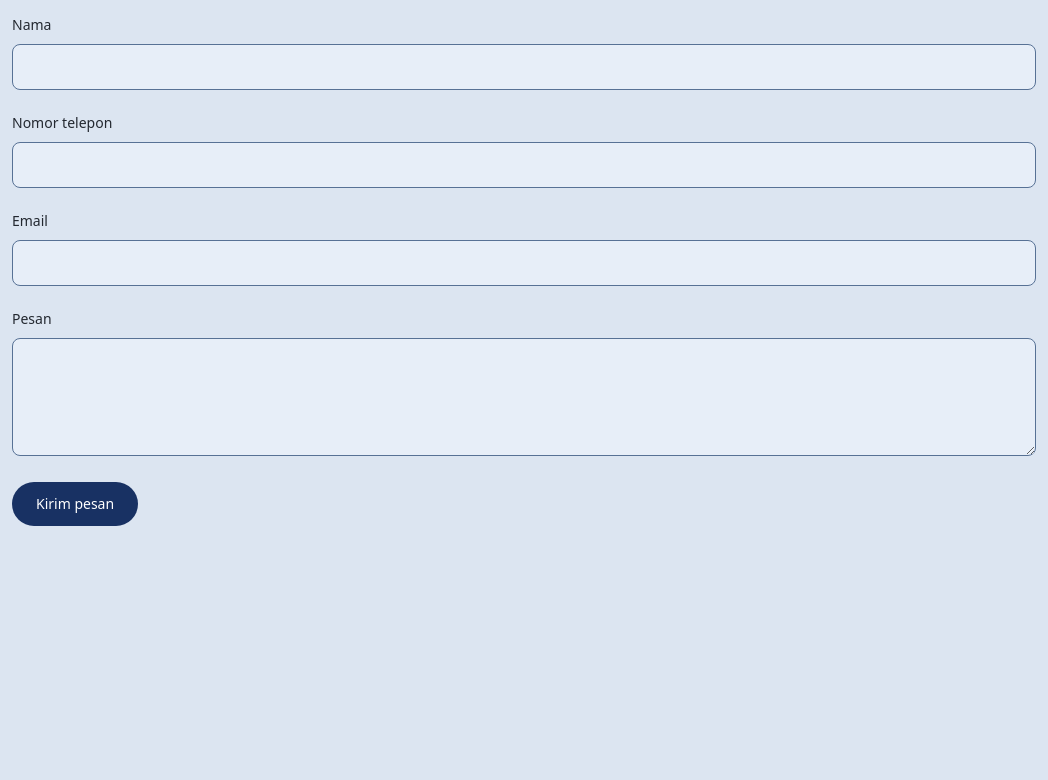
ContactForm saat server action gagal › menampilkan pesan galat ketika action melempar
Type "Budi Santoso" into the field labelled "Nama". click: (524, 67)
box: left=12, top=44, right=1036, bottom=90
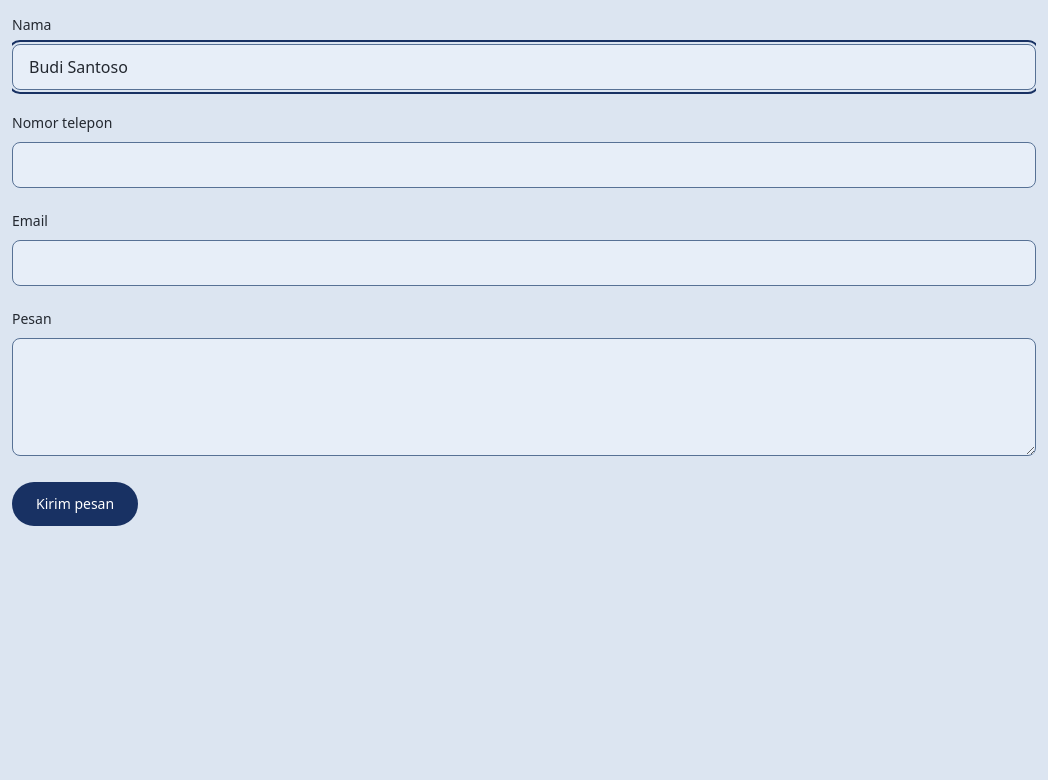
Type "+6281234567890" into the field labelled "Nomor telepon". click: (524, 165)
box: left=12, top=142, right=1036, bottom=188
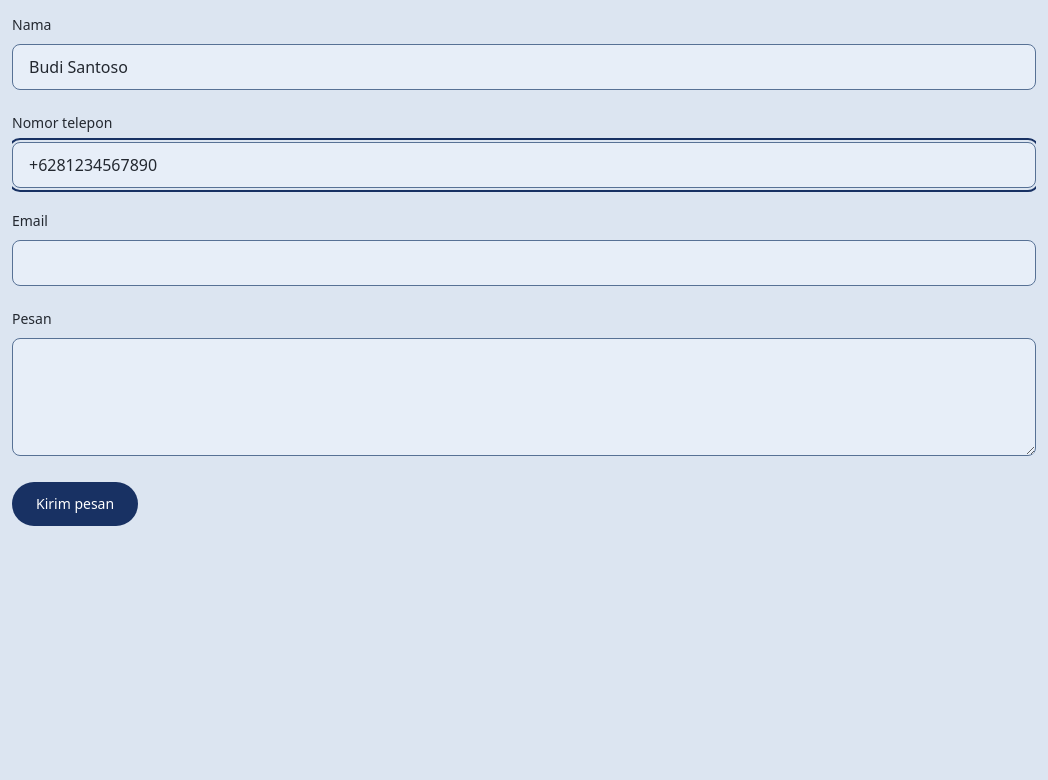
Type "budi@example.com" into the field labelled "Email". click: (524, 263)
box: left=12, top=240, right=1036, bottom=286
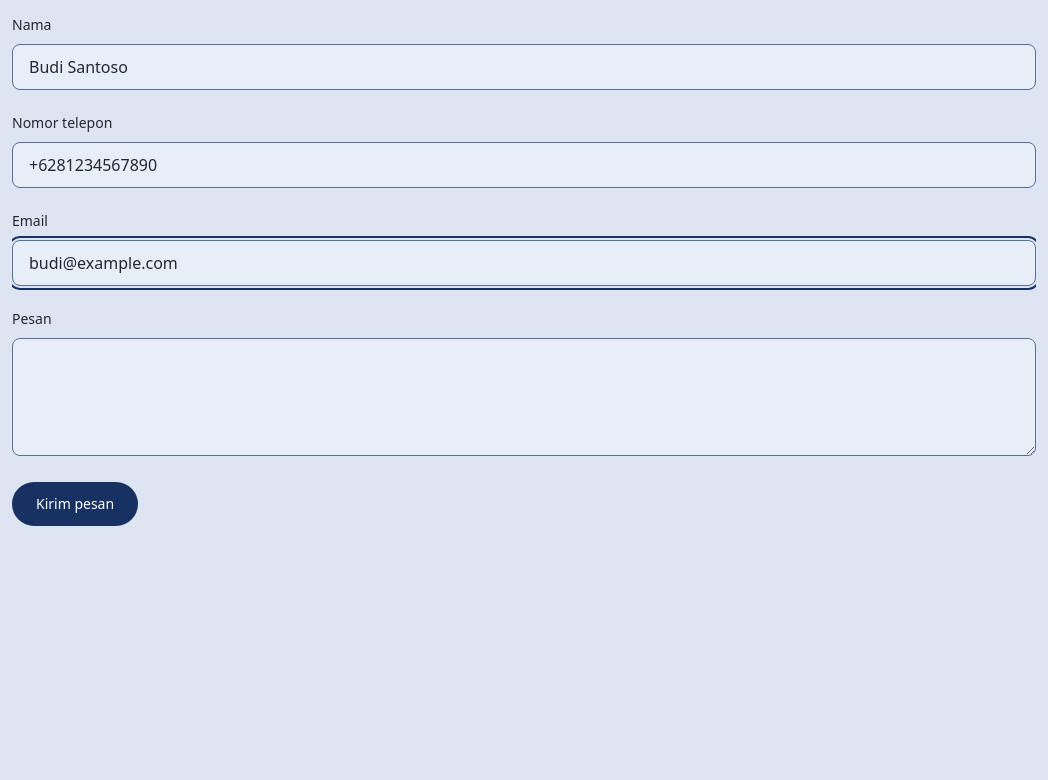
Type "Saya ingin bertanya soal pengangkutan BBM." into the text box labelled "Pesan". click: (524, 397)
box: left=12, top=338, right=1036, bottom=456
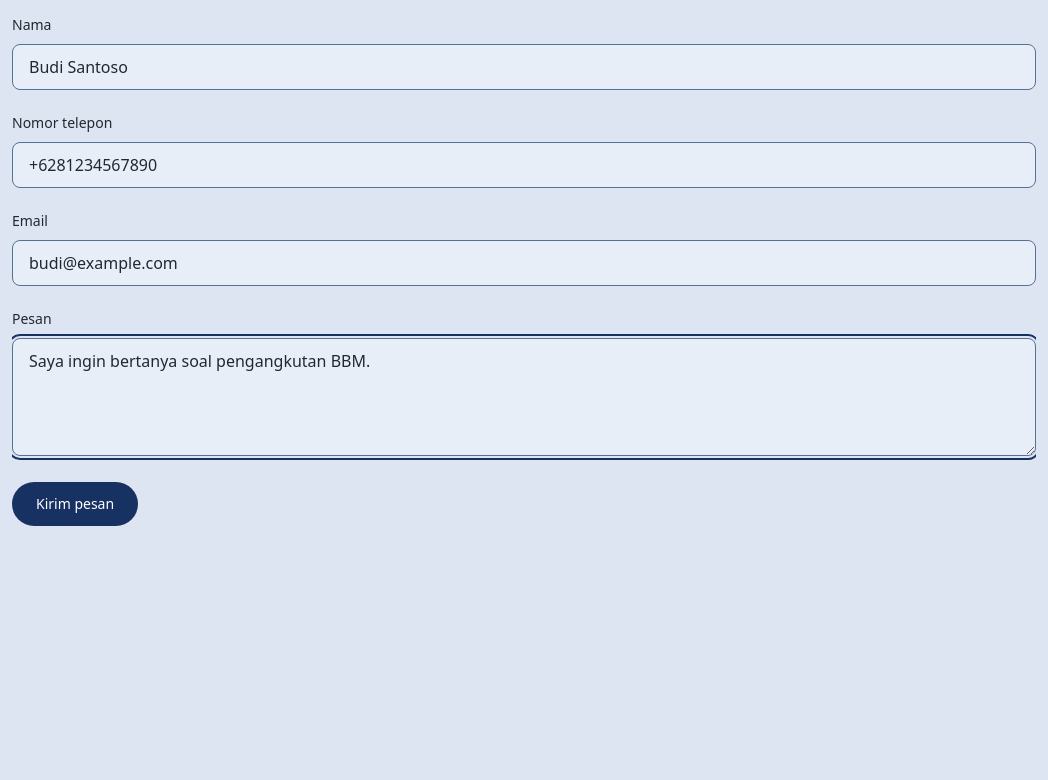
Click the button "Kirim pesan". click: (75, 504)
box: left=12, top=482, right=138, bottom=526
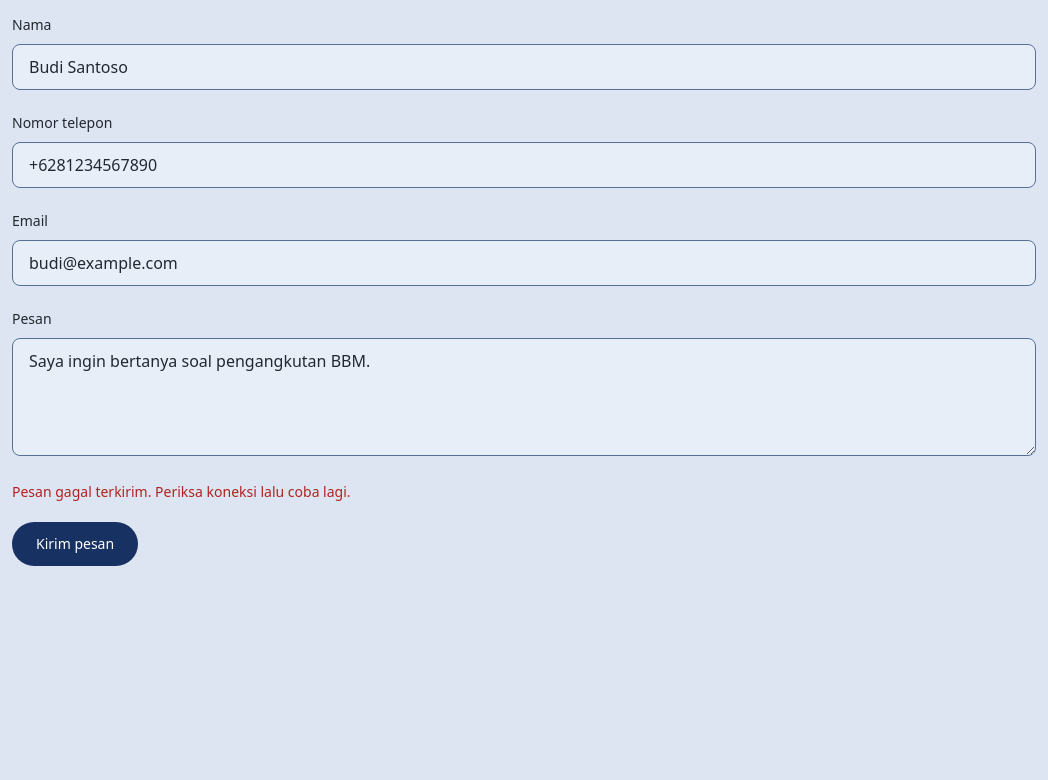
Now the message reads "Pesan gagal terkirim. Periksa koneksi lalu coba lagi.", box left=12, top=482, right=351, bottom=501
